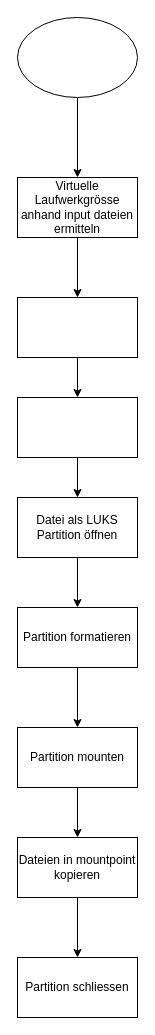
Some shapes in this 155 by 1035 pixel diagram are drawn without their labels. The shapes that lost their labels are listed below. From the top down, each one's centre as x and y in pixels, then its label:
point 77,57: Verpacken
point 77,327: Datei für virtuelles Laufwerk erstellen
point 77,427: Datei mit cryptsetup formatieren (luks)
